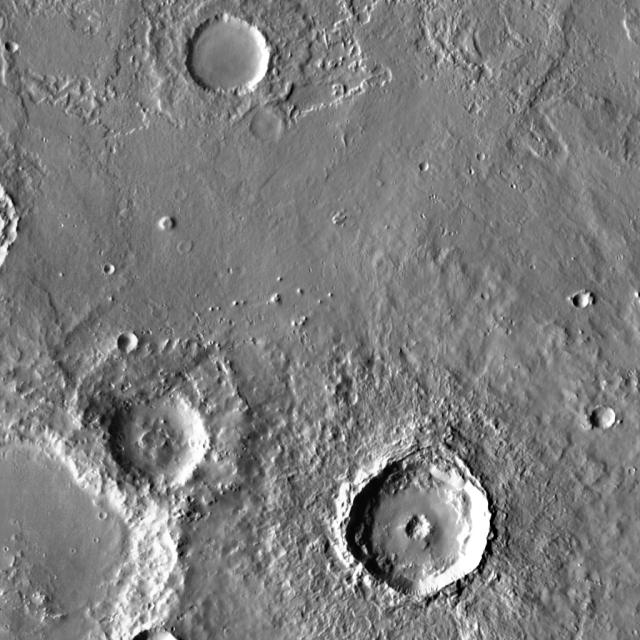crater: (0, 421, 178, 640), (350, 458, 491, 593), (109, 391, 210, 486), (187, 15, 272, 95), (250, 108, 284, 139), (592, 408, 616, 430), (118, 330, 139, 350), (575, 294, 591, 308), (345, 391, 360, 405), (105, 263, 116, 273), (420, 162, 431, 172), (176, 189, 187, 199), (478, 152, 488, 162), (238, 264, 248, 274), (10, 41, 20, 50), (622, 461, 630, 468), (483, 292, 490, 300), (101, 511, 108, 518), (142, 596, 149, 602)
